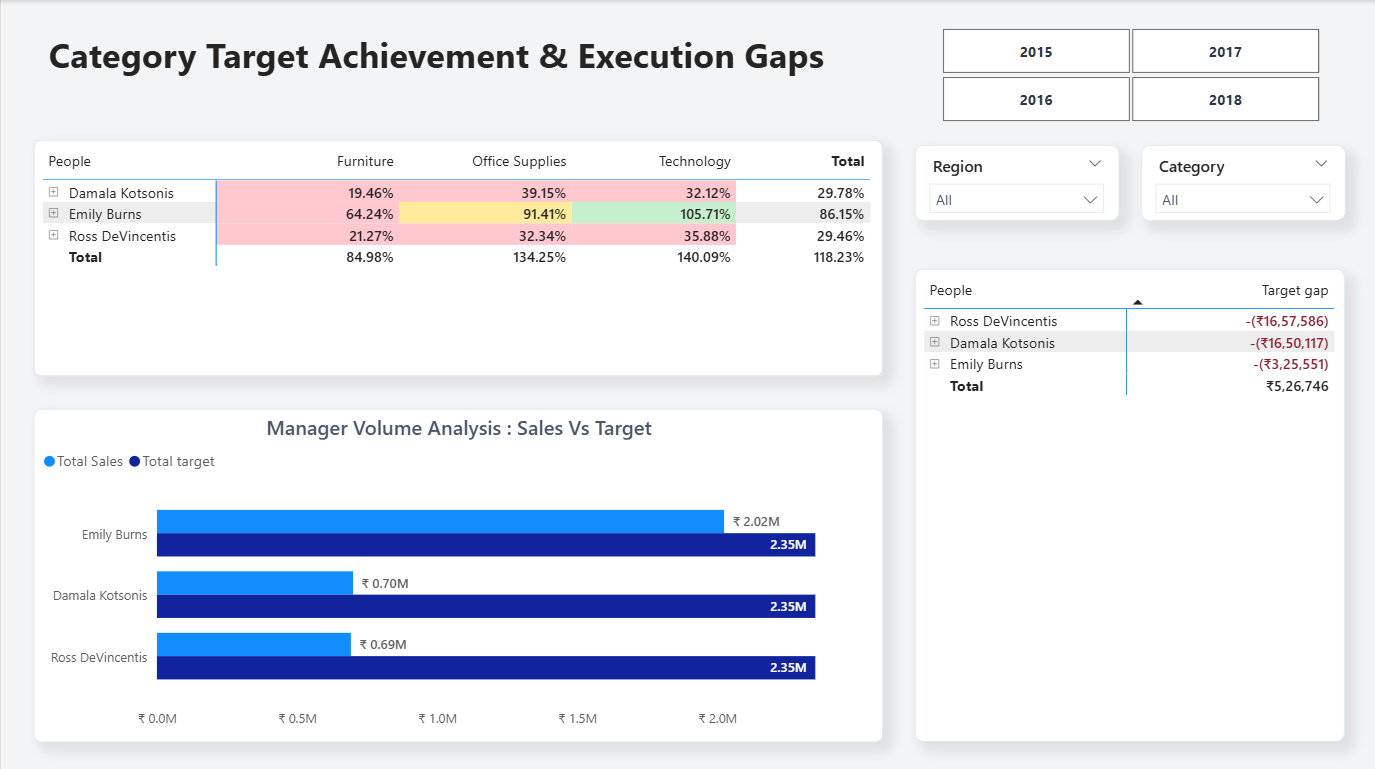

The dashboard page shown, as its layout file describes it:
{"tool":"powerbi","page":{"name":"Category Target Achievement & Execution Gaps ","canvas":[1280,720],"ordinal":1},"visuals":[{"type":"textbox","box":[40,25,750,60],"z":0},{"type":"slicer","fields":{"Values":["Calendar.Year"]},"box":[850,20,400,100],"z":1000},{"type":"slicer","fields":{"Values":["People.Region"]},"box":[850,135,190,70],"z":2000},{"type":"slicer","fields":{"Values":["Target.Category"]},"box":[1060,135,190,70],"z":3000},{"type":"pivotTable","fields":{"Rows":["People.People","Fact_Sales.State"],"Columns":["Target.Category"],"Values":["All_Measures.Target Achievement %"]},"box":[30,130,790,220],"z":4000},{"type":"clusteredBarChart","title":"Manager Volume Analysis : Sales Vs Target ","fields":{"Y":["All_Measures.Total Sales","All_Measures.Total target"],"Category":["People.People"]},"box":[30,380,790,310],"z":4001},{"type":"pivotTable","fields":{"Rows":["People.People","Target.Category"],"Values":["All_Measures.Target gap"]},"box":[850,250,400,440],"z":4002}]}

Visuals, with their boxes in screenshot pixels (x1, y1, x2, y2), scaled from the page's 1280x720 canvas onto the 1375x769 screenshot:
textbox: (x1=43, y1=27, x2=849, y2=91)
slicer - Calendar.Year: (x1=913, y1=21, x2=1343, y2=128)
slicer - People.Region: (x1=913, y1=144, x2=1117, y2=219)
slicer - Target.Category: (x1=1139, y1=144, x2=1343, y2=219)
pivotTable - People.People x Fact_Sales.State: (x1=32, y1=139, x2=881, y2=374)
"Manager Volume Analysis : Sales Vs Target " clusteredBarChart: (x1=32, y1=406, x2=881, y2=737)
pivotTable - People.People x Target.Category: (x1=913, y1=267, x2=1343, y2=737)
